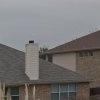Chimney: (20, 34, 46, 85)
